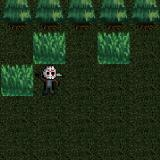Jason: (34, 64, 66, 96)
Obstacle: (0, 0, 33, 31), (33, 0, 65, 31), (65, 0, 98, 30), (98, 0, 129, 30), (129, 0, 160, 30)
Slow: (33, 32, 66, 64), (98, 32, 130, 64), (1, 64, 33, 96)
